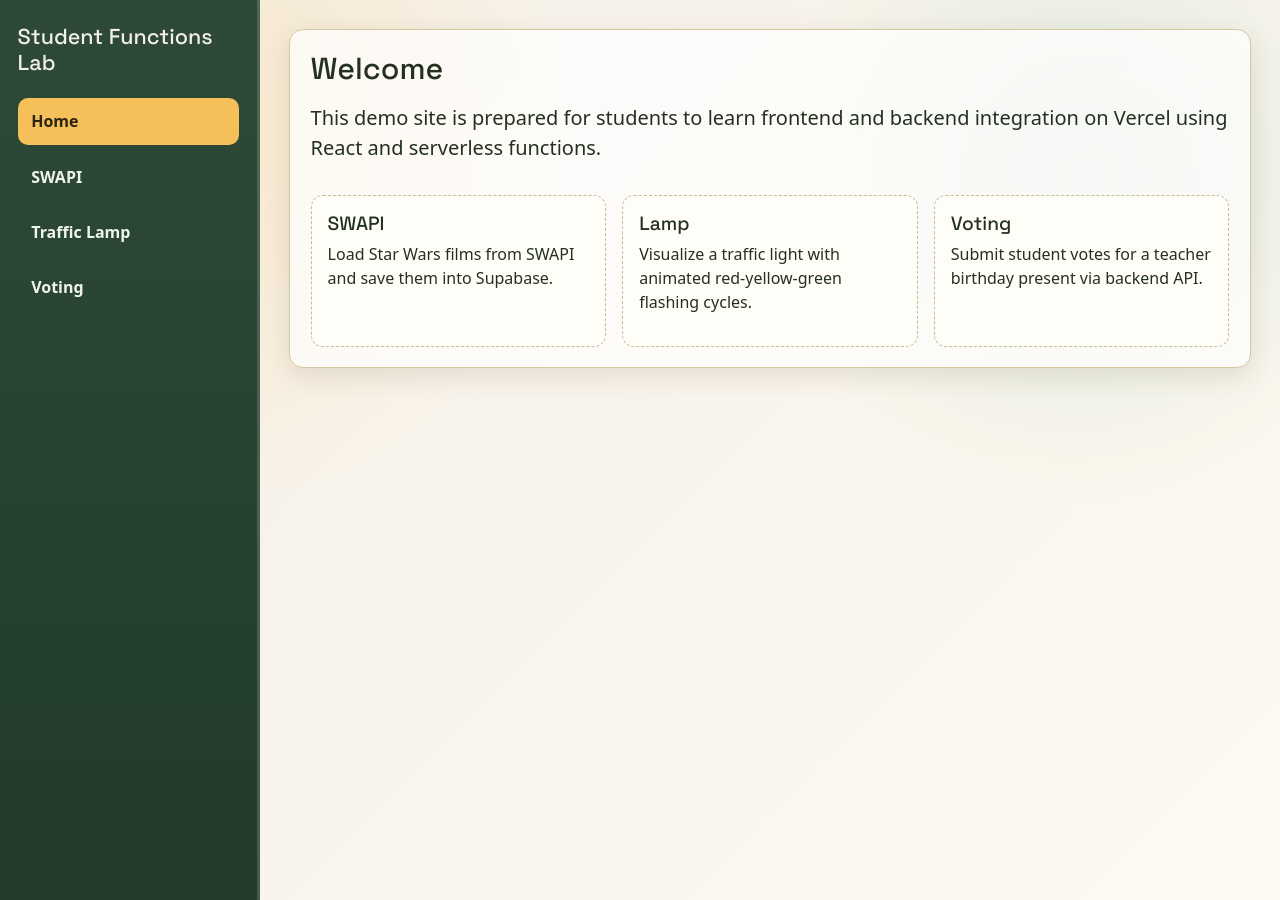
Scenario: frontend routing and click behavior › navigates to SWAPI page when SWAPI menu item is clicked
What coordinates should you click on to do the following:
click the link "SWAPI"
I would click on:
 (57, 177)
Its box is [31,166,82,188].
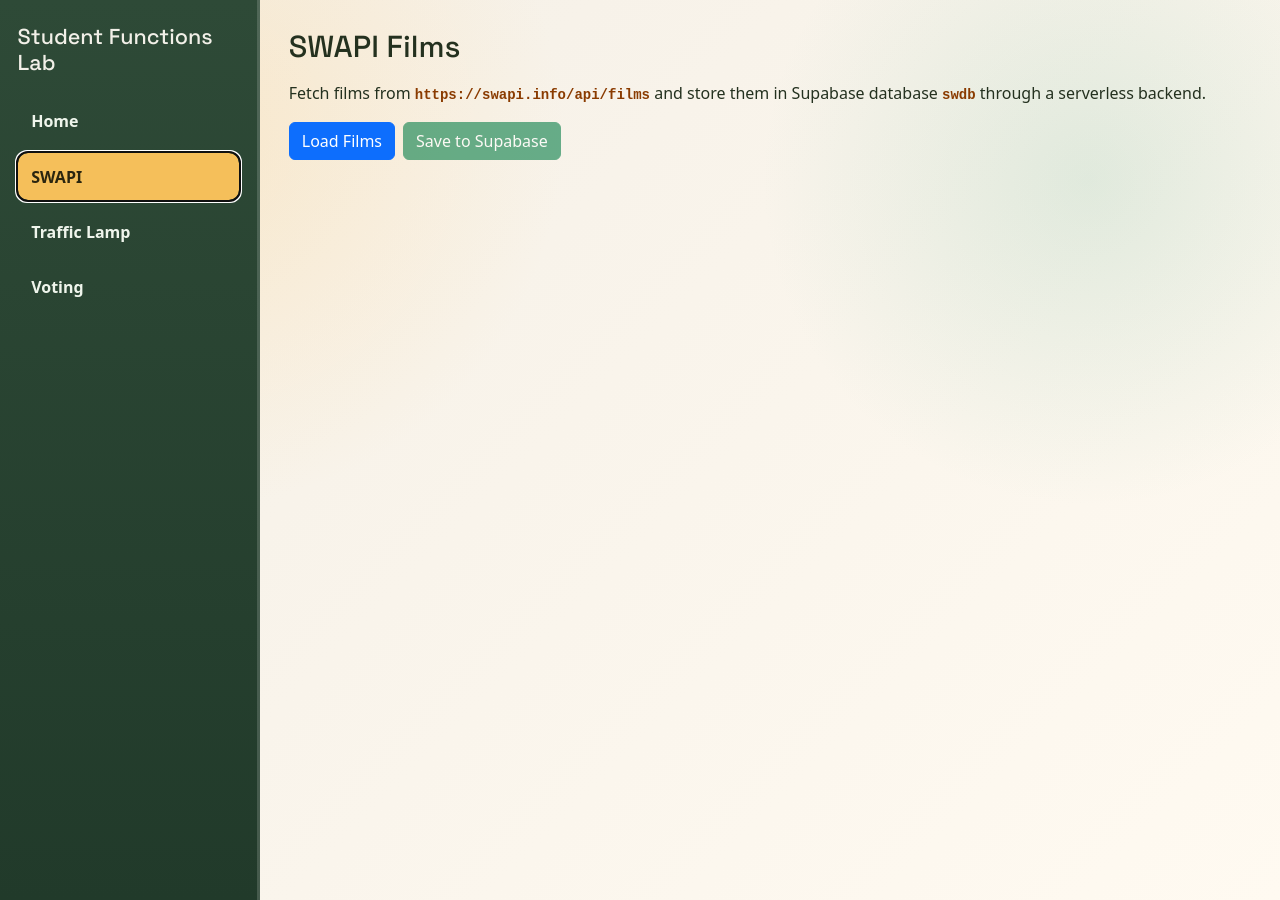
Check: the heading "SWAPI Films" is shown, box [289,27,460,66]
